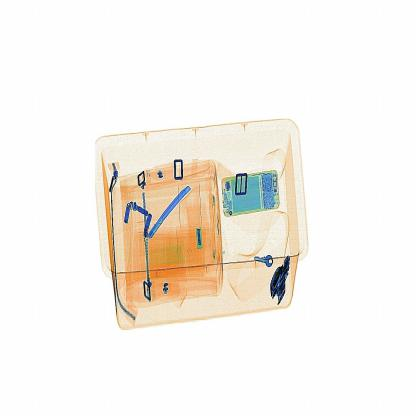pliers: (139, 175, 205, 242)
